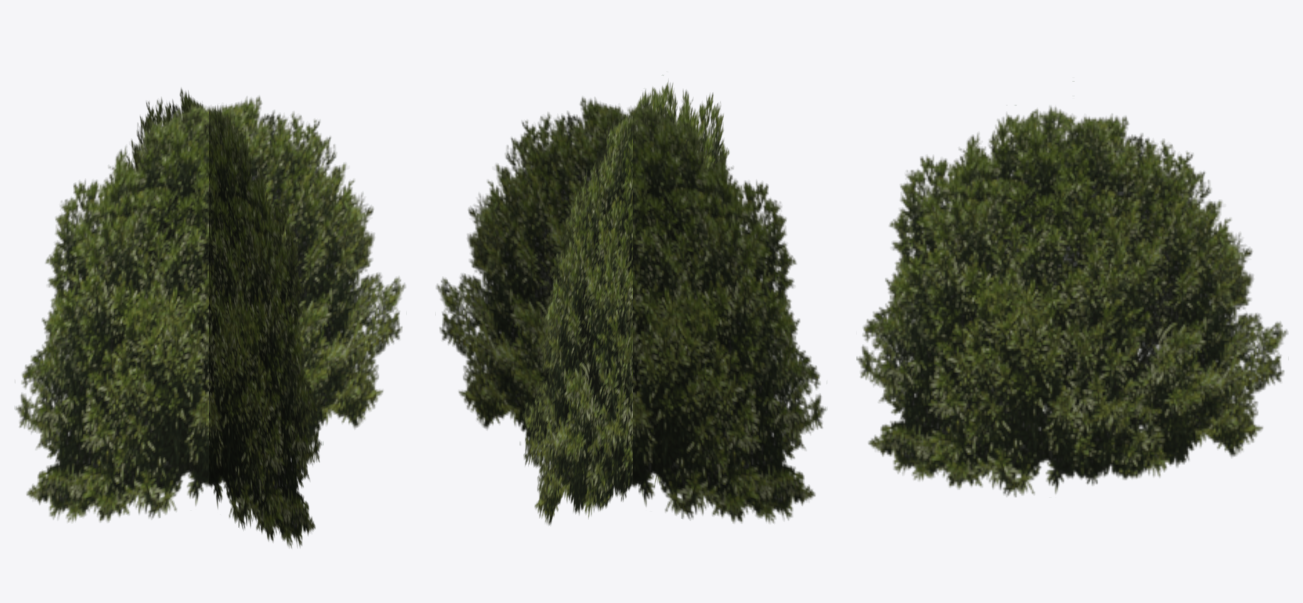
File: arbusto.glb
3 views of the same model, side by side, from view 1: azimuth 30°, elevation 25°; view 2: azimuth 150°, elevation 25°; view 3: azimuth 270°, elevation 25° (orthographic). The views are drawn at different scales.
Parts seen in each view (by area): view 1: Plane.002; view 2: Plane.002; view 3: Plane.002.
Part boxes in pixels (left/top/right/bottom): Plane.002: left=15, top=88, right=405, bottom=547; Plane.002: left=436, top=81, right=826, bottom=525; Plane.002: left=856, top=106, right=1287, bottom=496.
Size of the model in its own units: 1 by 1 by 1.
1 material, 1 textured.
